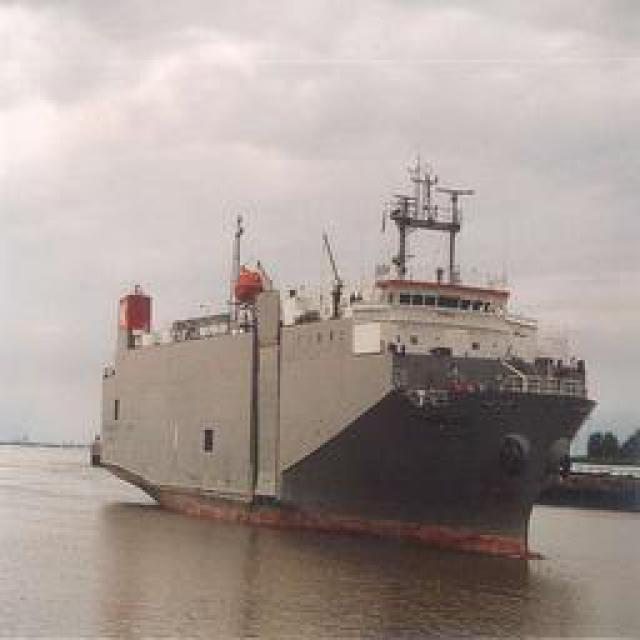Ship: (101, 137, 599, 537)
